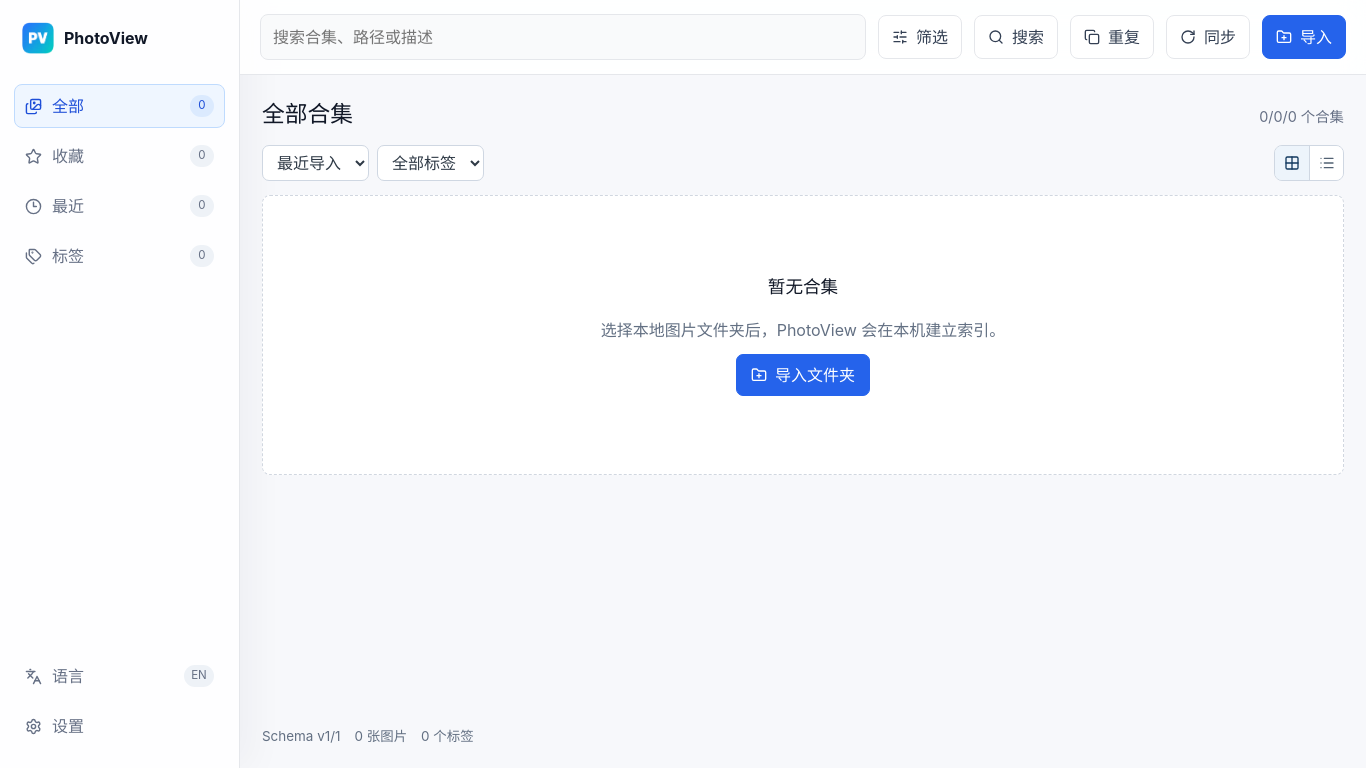
it: App › switches the visible interface language
What coordinates should you click on to do the following:
click the button with aria-label "切换到英文"
I would click on:
 (120, 676)
Its box is [14,654,225,698].
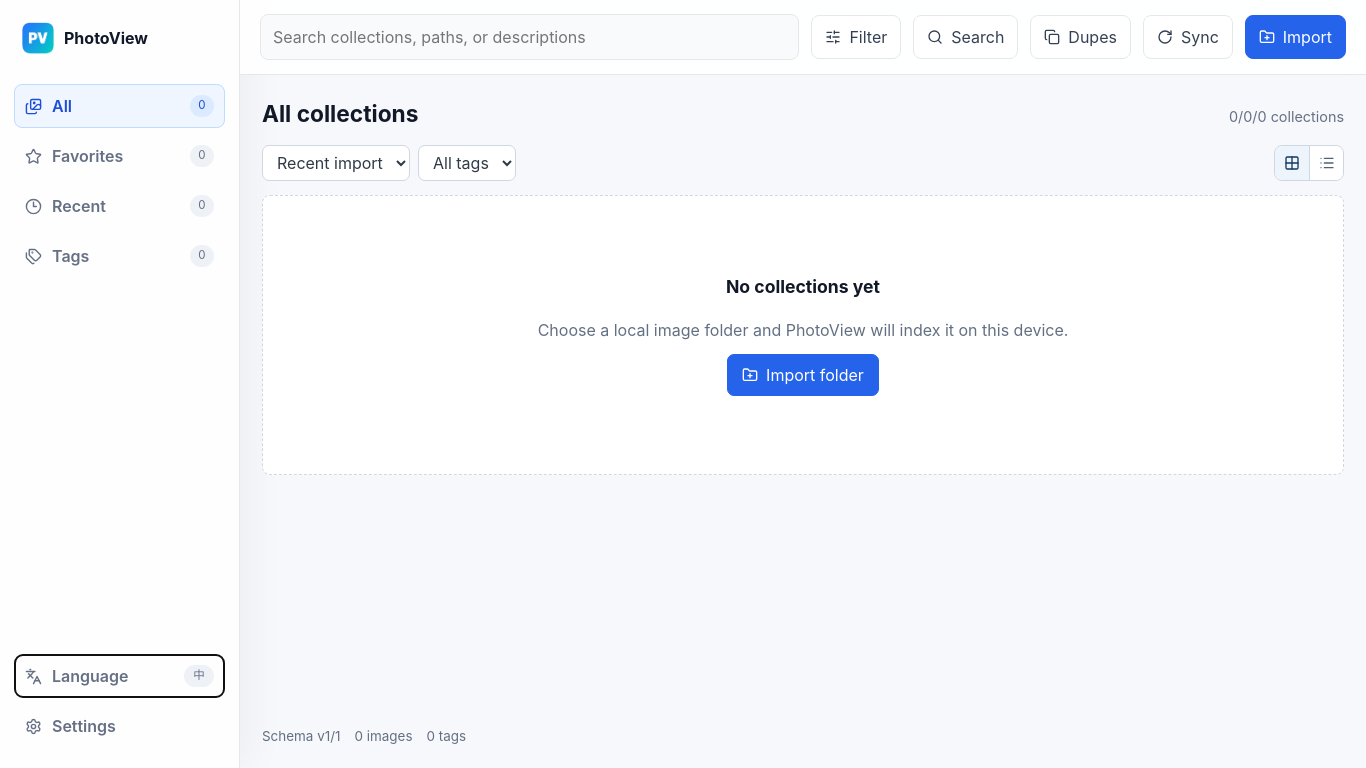
Now the heading "All collections" is shown, box [262,97,418,131]
What coordinates should you click on to do the following:
click the button "Settings"
I would click on:
 (120, 726)
Its box is [14,704,225,748].
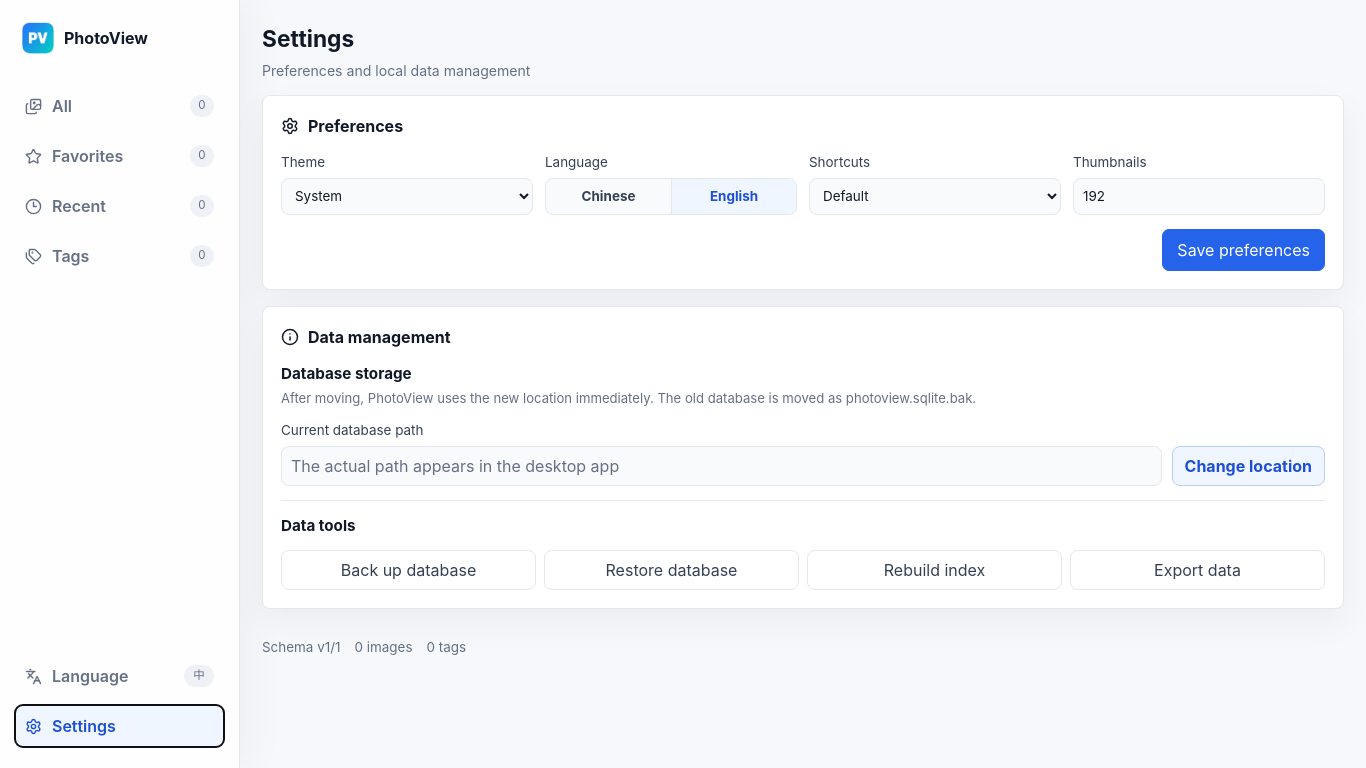
Now the heading "Settings" is shown, box [262,25,354,52]
